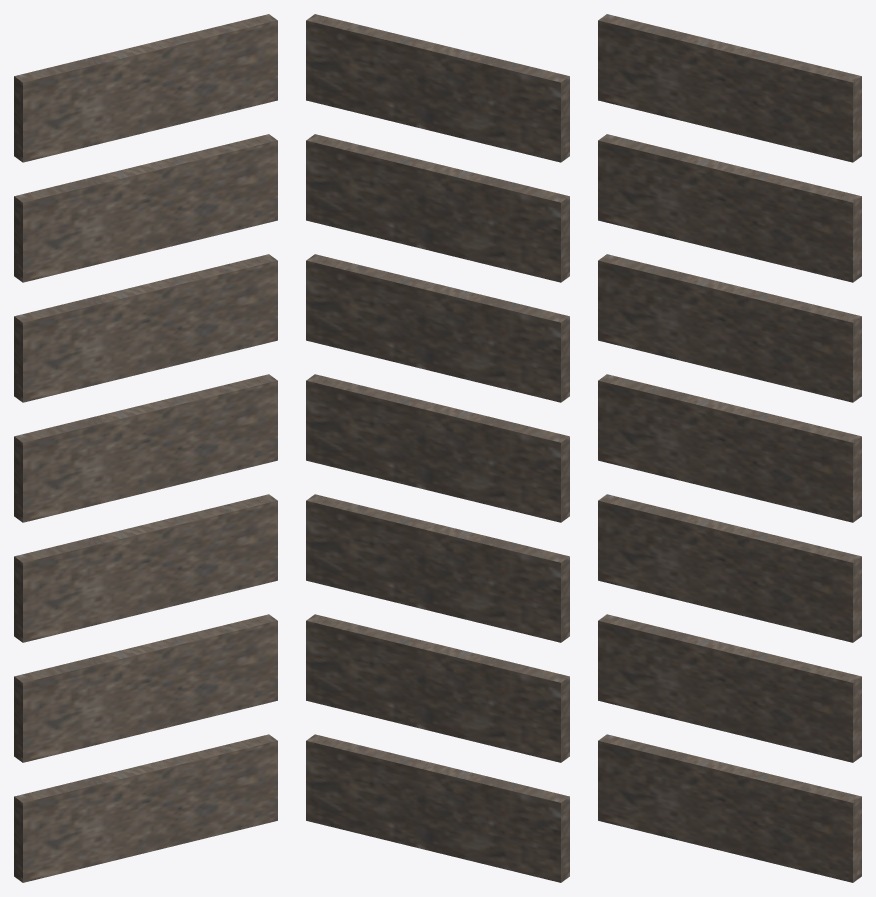
The model's file is house_stone_path.glb.
3 views of the same model, side by side, from view 1: azimuth 30°, elevation 25°; view 2: azimuth 150°, elevation 25°; view 3: azimuth 330°, elevation 25° (orthographic).
Parts seen in each view (by area): view 1: Stone Path; view 2: Stone Path; view 3: Stone Path.
Part boxes in pixels (left/top/right/bottom): Stone Path: left=14, top=14, right=277, bottom=882; Stone Path: left=306, top=14, right=569, bottom=882; Stone Path: left=598, top=14, right=861, bottom=882.
Bounding box in the file's own units: 100 × 300 × 6.
1 material, 1 textured.
